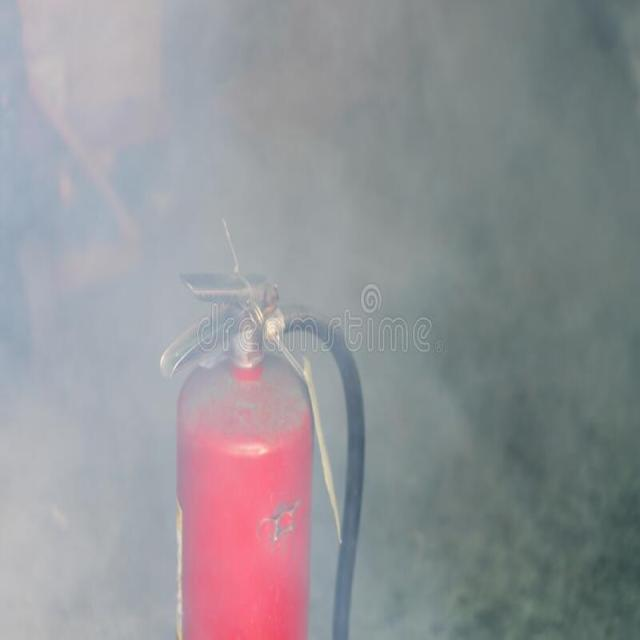fire_extinguisher: (156, 264, 368, 638)
